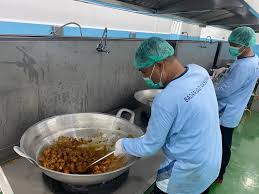mask: (137, 70, 166, 92), (222, 42, 245, 60)
